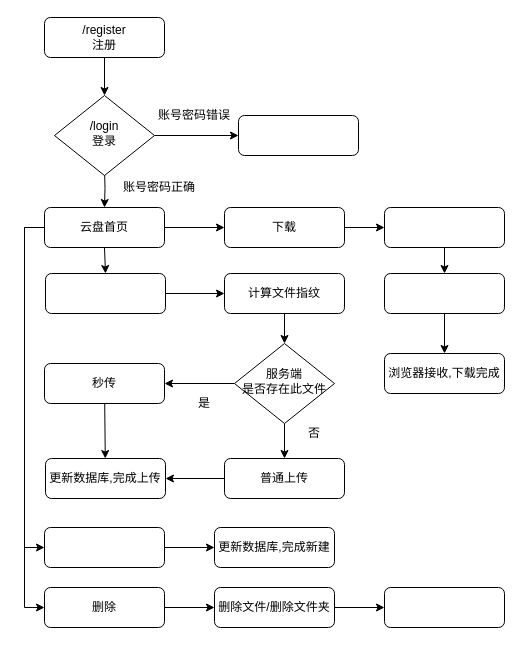
The diagram is 522 pixels wide and 645 high, and some of its shapes have lost their labels. The shapes that lost their labels are listed below. From the top down, each one's centre as x and y in pixels, then its label:
point 298,135: 重新输入账号密码
point 444,227: 查询数据库中 真实文件物理地址
point 105,293: 选择文件 准备上传
point 444,293: 读取文件,返回文件流
point 104,547: 新建文件夹
point 444,607: 删除完成
